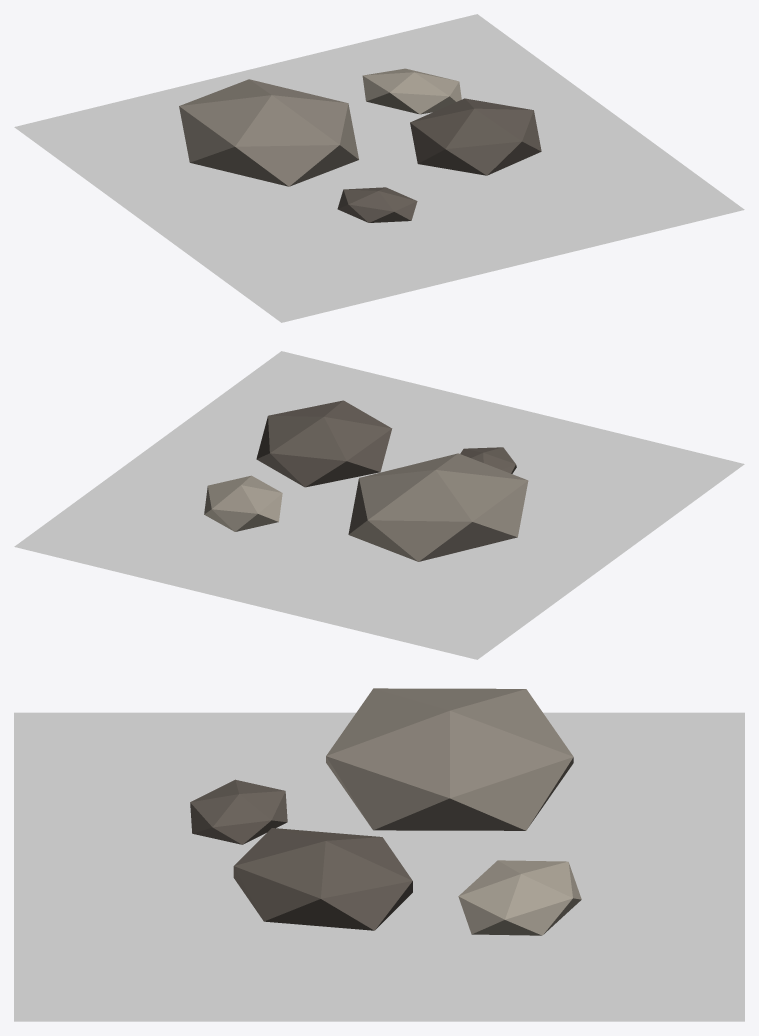
Rendered from rocks.glb.
3 renders of one model, top to bottom at view 1: azimuth 30°, elevation 25°; view 2: azimuth 150°, elevation 25°; view 3: azimuth 270°, elevation 25°, orthographic. The views are drawn at different scales.
Visible parts, largest first — view 1: GRASS, ROCK_0, ROCK_1, ROCK_2, ROCK_3; view 2: GRASS, ROCK_0, ROCK_1, ROCK_2, ROCK_3; view 3: GRASS, ROCK_0, ROCK_1, ROCK_2, ROCK_3.
Part boxes in pixels (x1,y1,x2,y2): GRASS: (14,14,744,322); ROCK_0: (179,79,358,186); ROCK_1: (410,98,541,175); ROCK_2: (362,68,461,114); ROCK_3: (337,187,417,222); GRASS: (14,351,744,659); ROCK_0: (348,453,528,561); ROCK_1: (256,400,392,487); ROCK_2: (204,475,282,531); ROCK_3: (460,447,516,473); GRASS: (14,712,744,1021); ROCK_0: (326,688,573,830); ROCK_1: (233,828,412,930); ROCK_2: (458,860,581,935); ROCK_3: (190,779,287,844).
Bounding box in the file's own units: 1.04 × 0.1598 × 1.04.
